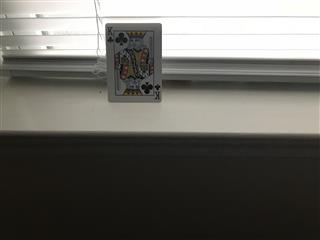KingOfClubs: (104, 21, 163, 103)
